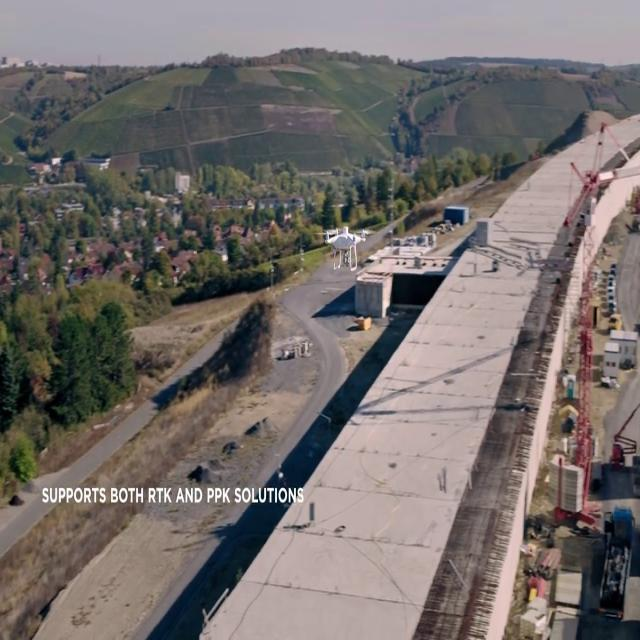drone: (313, 223, 375, 272)
